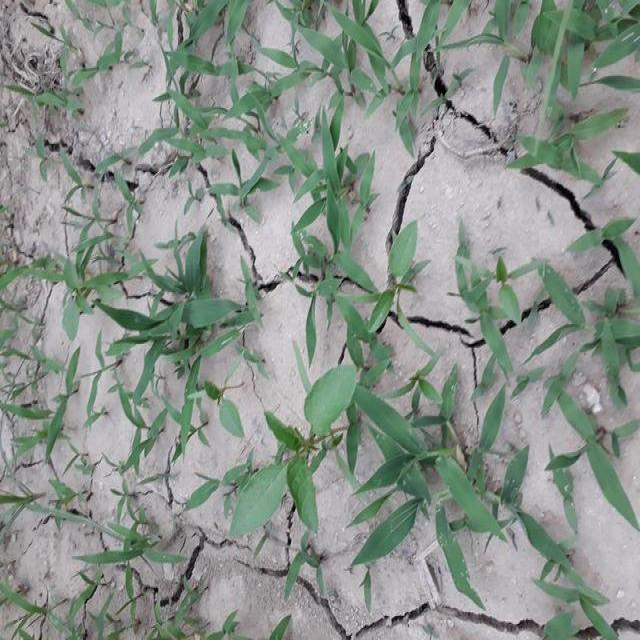weed: (130, 10, 640, 191), (358, 392, 640, 569), (464, 220, 640, 444), (0, 253, 96, 640), (280, 122, 430, 368), (107, 244, 230, 400), (226, 382, 347, 527)
